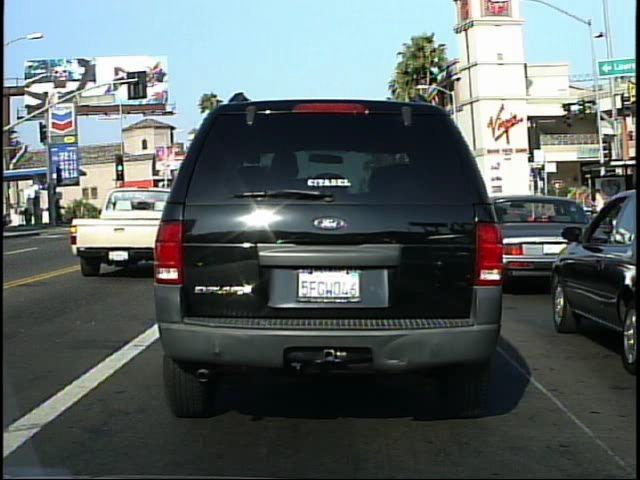person: (589, 185, 611, 243)
